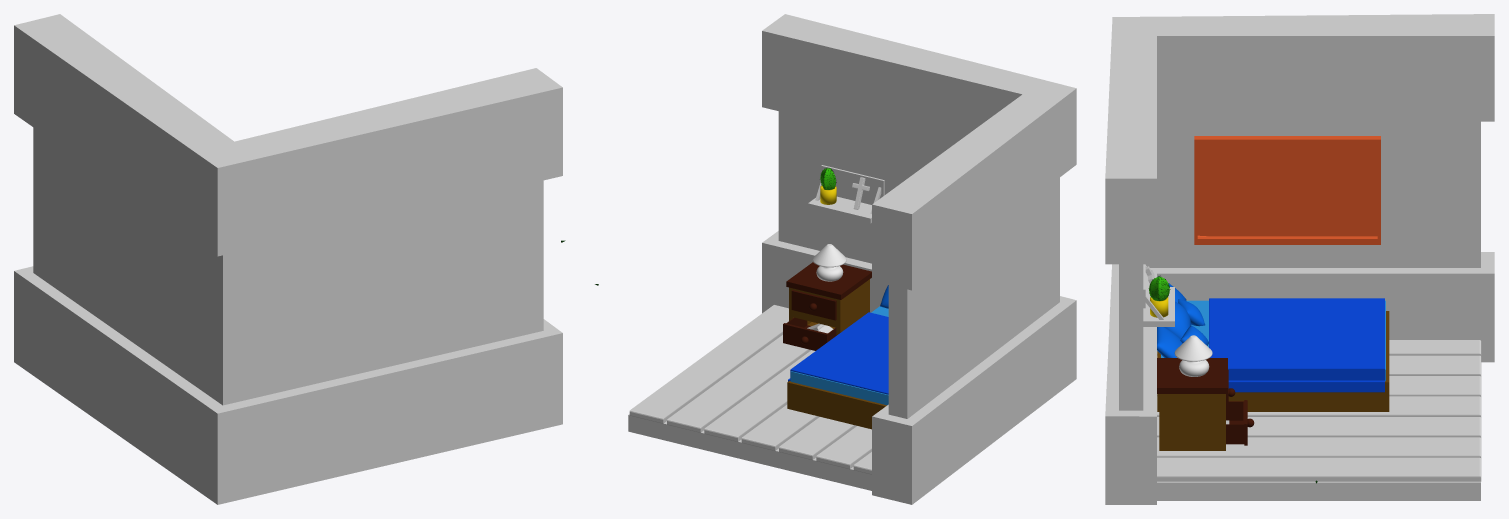
The model's file is 1780331696241-isometricroom.glb.
3 views of the same model, side by side, from view 1: azimuth 30°, elevation 25°; view 2: azimuth 150°, elevation 25°; view 3: azimuth 270°, elevation 25° (orthographic). The views are drawn at different scales.
Visible parts, largest first — view 1: Cube.002; view 2: Cube.002, Cube.001, Cube.010, Cube, Cube.003, Cube.014, Cube.011, Cube.004, Cube.013, Cube.012, Cube.016, Cube.019 (+1 smaller); view 3: Cube.002, Cube.001, Cube.015, Cube.010, Cube, Cube.011, Cube.003, Cube.014, Cube.013, Sphere.001, Cube.016, Cube.007 (+3 smaller).
Boxes of the visible parts, x1,y1,x2,y2 form: Cube.002: (14, 14, 562, 504); Cube.002: (762, 14, 1076, 504); Cube.001: (629, 305, 871, 474); Cube.010: (788, 312, 888, 394); Cube: (628, 414, 871, 490); Cube.003: (787, 381, 886, 429); Cube.014: (786, 262, 871, 299); Cube.011: (789, 279, 869, 335); Cube.004: (790, 306, 888, 405); Cube.013: (783, 317, 836, 350); Cube.012: (791, 290, 836, 320); Cube.016: (808, 196, 871, 223); Cube.019: (821, 165, 884, 196); Cube.002: (1105, 14, 1494, 504); Cube.001: (1157, 340, 1481, 481); Cube.015: (1194, 136, 1380, 244); Cube.010: (1209, 298, 1384, 392); Cube: (1157, 481, 1480, 500); Cube.011: (1159, 394, 1225, 450); Cube.003: (1157, 311, 1389, 411); Cube.014: (1157, 358, 1227, 393); Cube.013: (1226, 400, 1254, 445); Sphere.001: (1174, 335, 1212, 361); Cube.016: (1143, 287, 1174, 326); Cube.007: (1157, 327, 1182, 357).
Size of the model in its own units: 7.02 by 4.94 by 5.31.
